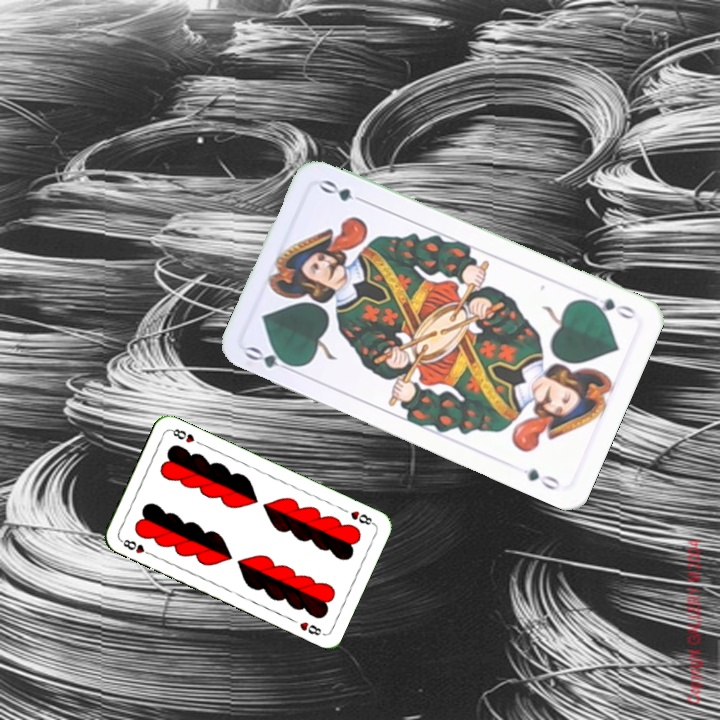GO: (241, 342, 300, 376), (581, 294, 638, 322)
H8: (117, 535, 155, 558), (346, 507, 377, 528)
